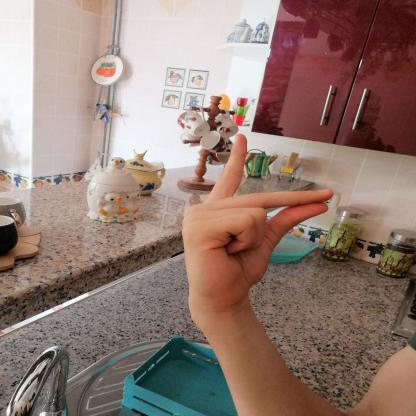TAA: (172, 128, 343, 317)
